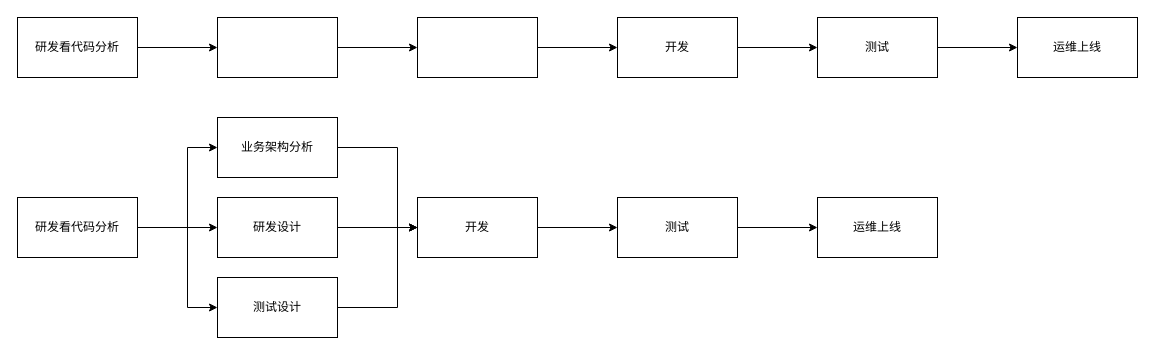
Image size: 1155x355. Some labels were removed from this diagram. Here are the shapes that lost their labels. From the top down, the box of each, then its label:
(216, 16, 338, 78): 业务和架构分析
(416, 16, 538, 78): 需求沟通
